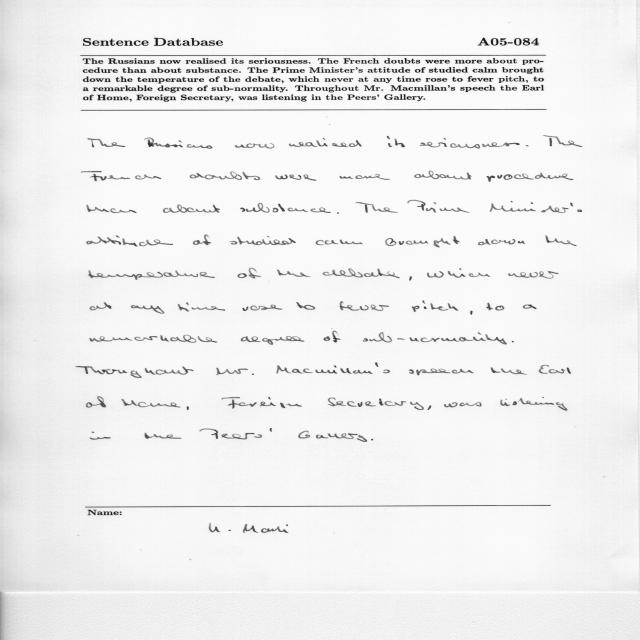word: (363, 332, 507, 344), (76, 366, 194, 378), (89, 270, 215, 280), (276, 363, 390, 374), (328, 397, 424, 410), (490, 201, 582, 213), (90, 335, 217, 343), (420, 138, 520, 148), (87, 236, 173, 247), (501, 397, 568, 411), (240, 203, 331, 213), (221, 397, 302, 408), (385, 236, 460, 247), (408, 200, 470, 213), (145, 137, 212, 149), (199, 429, 272, 440), (82, 171, 162, 181), (487, 173, 573, 182), (323, 269, 400, 279), (298, 431, 367, 442), (289, 138, 362, 147), (427, 268, 491, 278), (229, 236, 296, 245), (241, 336, 305, 345), (190, 172, 260, 180), (414, 171, 472, 180), (163, 204, 220, 213), (412, 301, 458, 312), (340, 301, 389, 311), (121, 399, 181, 407), (355, 202, 398, 213), (543, 135, 582, 147), (178, 303, 225, 312), (87, 205, 137, 213), (509, 271, 559, 279), (409, 369, 474, 375), (88, 139, 125, 148), (546, 236, 577, 246), (339, 174, 390, 180), (131, 305, 165, 314), (275, 174, 317, 181), (539, 365, 571, 374), (478, 239, 525, 245), (216, 368, 254, 375), (238, 268, 261, 279), (491, 368, 527, 375), (243, 305, 283, 311), (277, 270, 311, 277), (316, 240, 363, 245), (235, 143, 274, 149), (145, 433, 182, 439), (86, 397, 106, 408), (387, 136, 405, 147), (444, 402, 482, 407), (324, 331, 341, 342), (193, 235, 211, 245), (90, 302, 112, 310), (90, 432, 111, 440), (297, 302, 316, 310), (486, 303, 504, 311), (523, 304, 536, 309), (428, 406, 432, 410), (409, 276, 412, 281), (470, 311, 473, 315), (187, 407, 189, 411), (337, 212, 339, 214), (371, 439, 373, 441), (526, 145, 529, 146), (512, 341, 514, 342)
